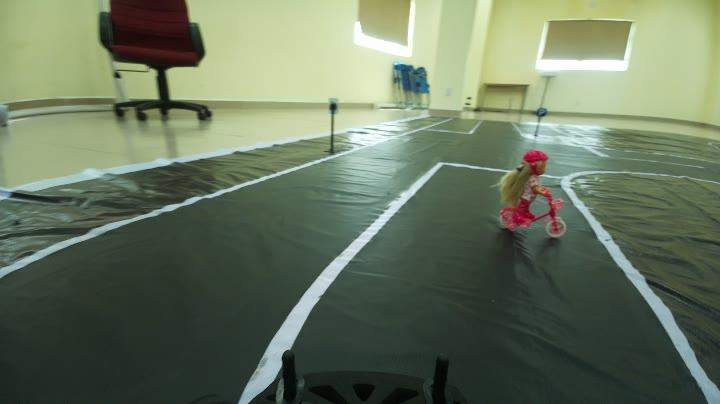pedestrian: (501, 143, 582, 244)
